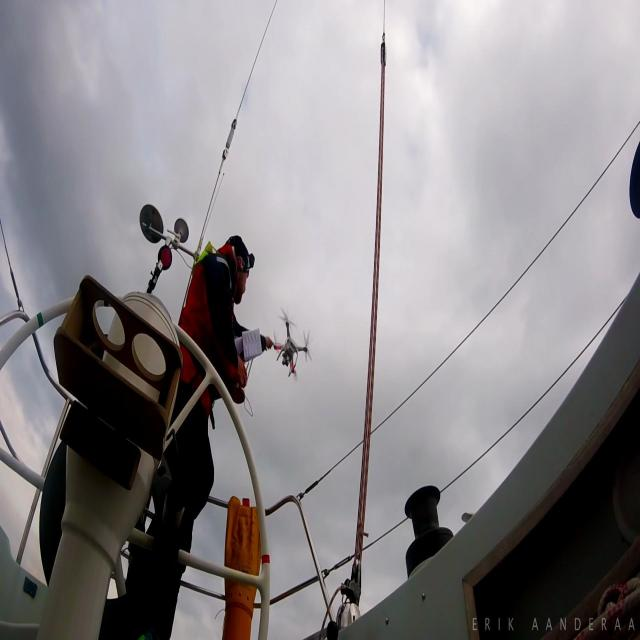drone: (265, 304, 311, 384)
